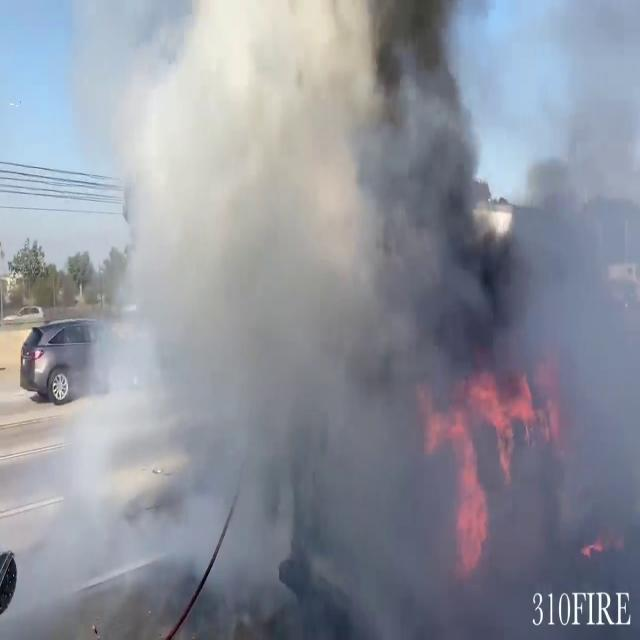Smoke: (41, 0, 634, 634)
